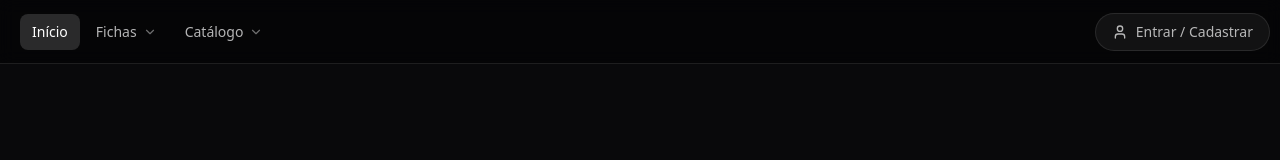
GlassHeader (desktop) › mostra ao visitante só Fichas e Catálogo e o botão Entrar / Cadastrar
Click the button "Fichas": (126, 32) [84, 14, 169, 50]
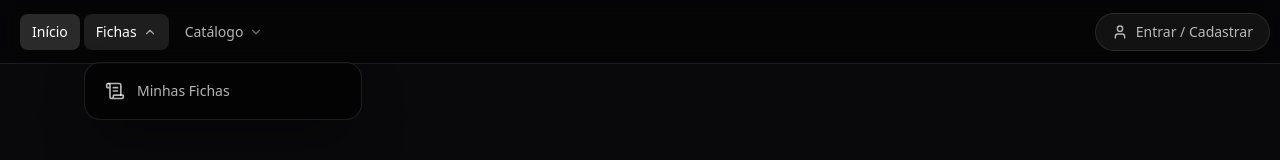
Expected: the links read "Minhas Fichas", in this order, [105, 80, 230, 100]
